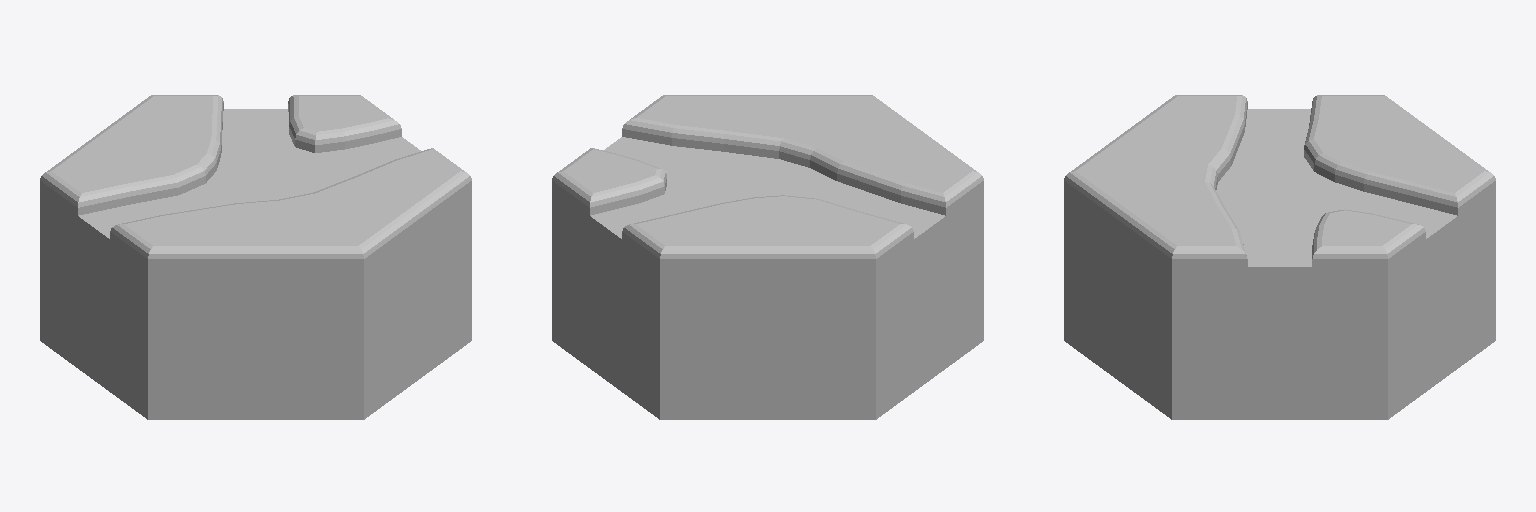
The model's file is hex_sand_roadF.obj.
The picture shows the model from 3 angles: view 1: azimuth 30°, elevation 25°; view 2: azimuth 150°, elevation 25°; view 3: azimuth 270°, elevation 25°; orthographic projection.
Parts seen in each view (by area): view 1: hex_sand_roadF_Cylinder.635; view 2: hex_sand_roadF_Cylinder.635; view 3: hex_sand_roadF_Cylinder.635.
Part boxes in pixels (left/top/right/bottom): hex_sand_roadF_Cylinder.635: left=40, top=95, right=471, bottom=419; hex_sand_roadF_Cylinder.635: left=552, top=95, right=983, bottom=419; hex_sand_roadF_Cylinder.635: left=1064, top=95, right=1495, bottom=419.
Bounding box in the file's own units: 2 × 1 × 2.31.